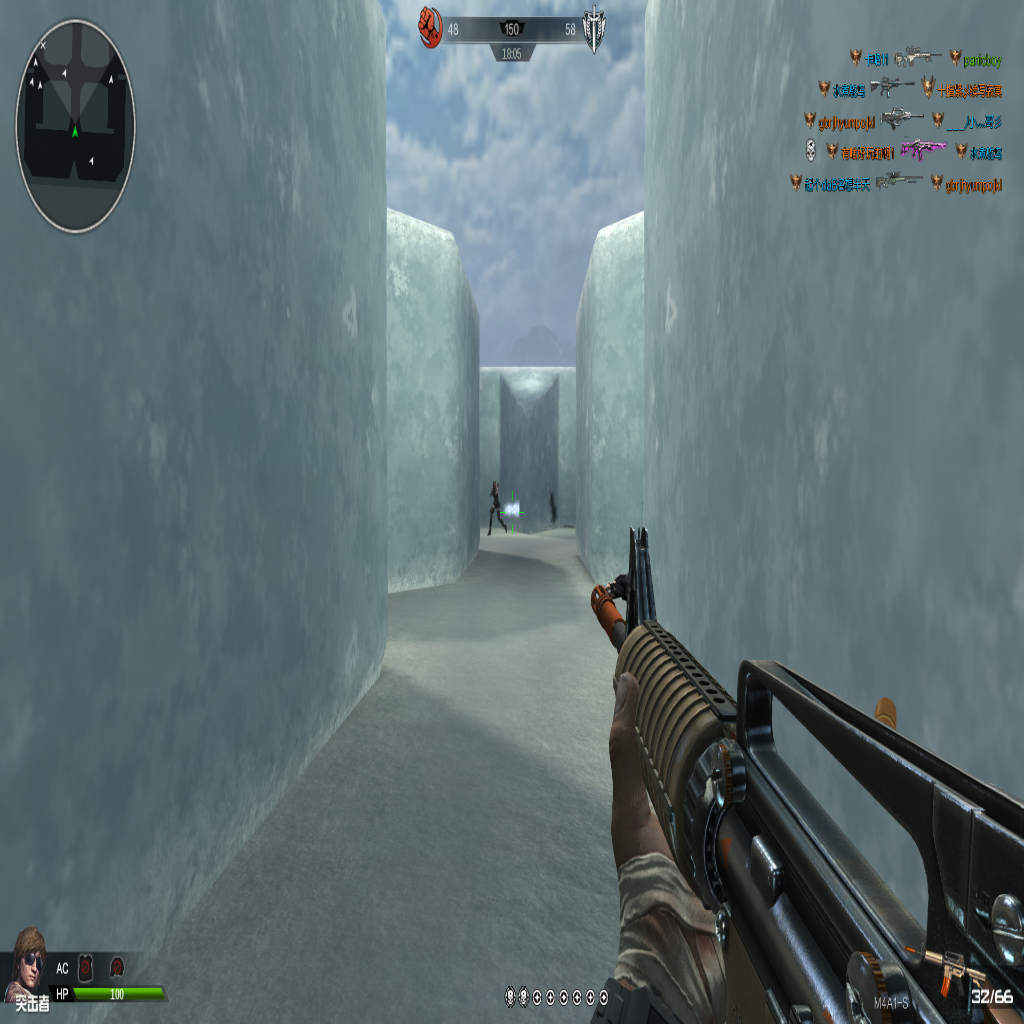ct: (487, 479, 507, 538)
